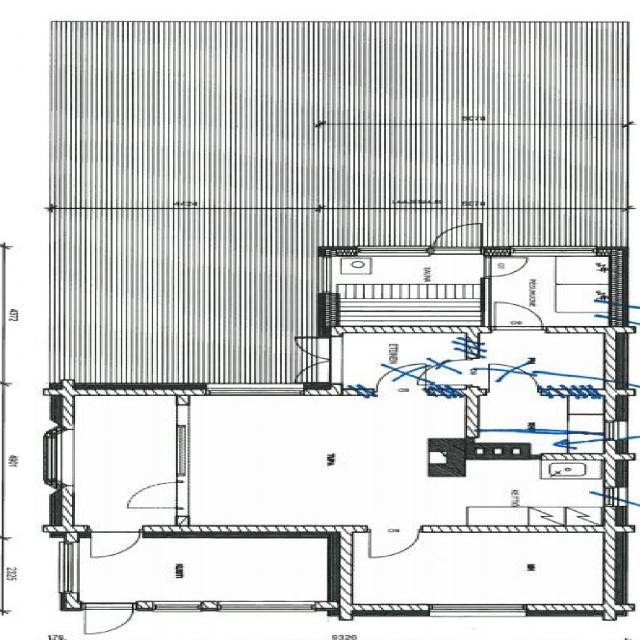door: (90, 525, 139, 563), (430, 220, 480, 256), (274, 337, 342, 360), (85, 602, 132, 635), (370, 525, 418, 557), (274, 360, 342, 382), (494, 302, 540, 333), (480, 258, 524, 276)
